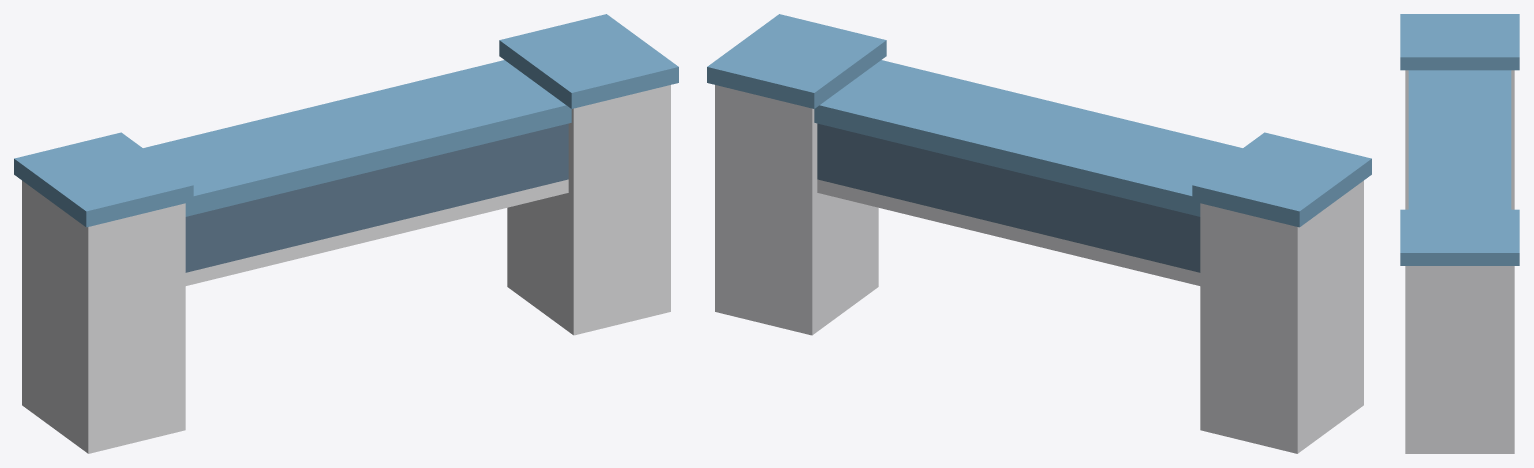
File: harbor_pedestrian_skybridge.glb
3 views of the same model, side by side, from view 1: azimuth 30°, elevation 25°; view 2: azimuth 150°, elevation 25°; view 3: azimuth 270°, elevation 25° (orthographic). The views are drawn at different scales.
Visible parts, largest first — view 1: harbor_pedestrian_skybridge; view 2: harbor_pedestrian_skybridge; view 3: harbor_pedestrian_skybridge.
Part boxes in pixels (x1,y1,x2,y2): harbor_pedestrian_skybridge: (14,14,678,453); harbor_pedestrian_skybridge: (707,14,1371,453); harbor_pedestrian_skybridge: (1400,14,1519,453).
Bounding box in the file's own units: 23.2 × 9.2 × 4.9.
